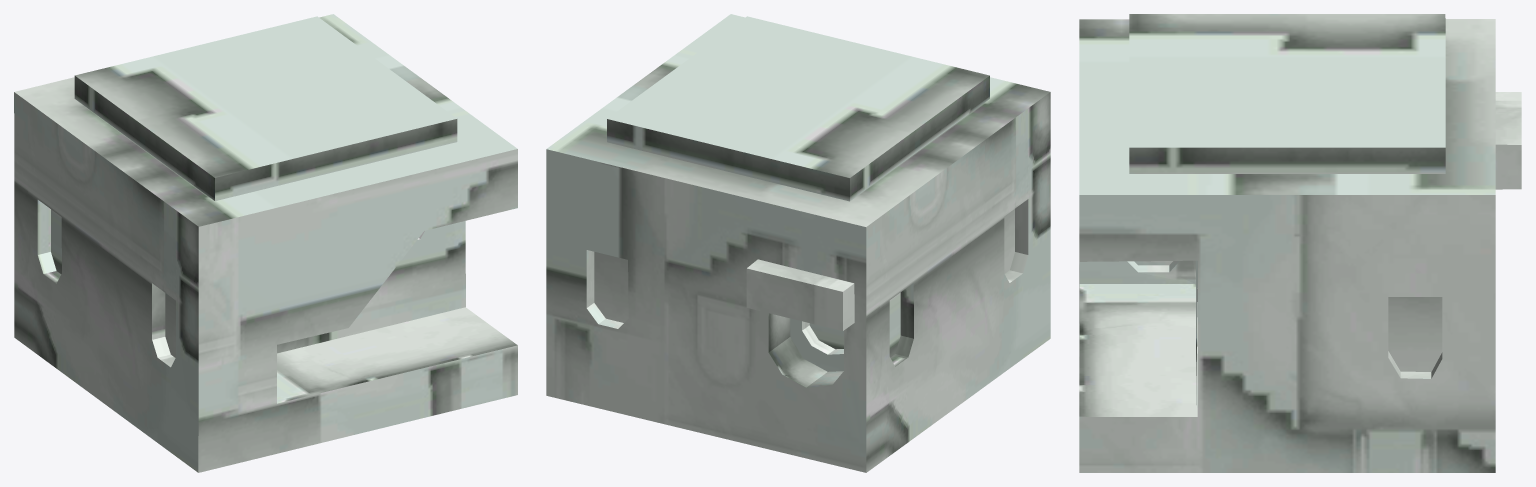
File: BuildingBlock02.obj
The picture shows the model from 3 angles, left to right: view 1: azimuth 30°, elevation 25°; view 2: azimuth 150°, elevation 25°; view 3: azimuth 270°, elevation 25°; orthographic projection. The views are drawn at different scales.
Visible parts, largest first — view 1: BuildingBlock02_0; view 2: BuildingBlock02_0; view 3: BuildingBlock02_0.
Part boxes in pixels (x1,y1,x2,y2): BuildingBlock02_0: (14,14,517,472); BuildingBlock02_0: (546,14,1050,472); BuildingBlock02_0: (1079,14,1521,472).
Size of the model in its own units: 1.5 by 1.21 by 1.6.
